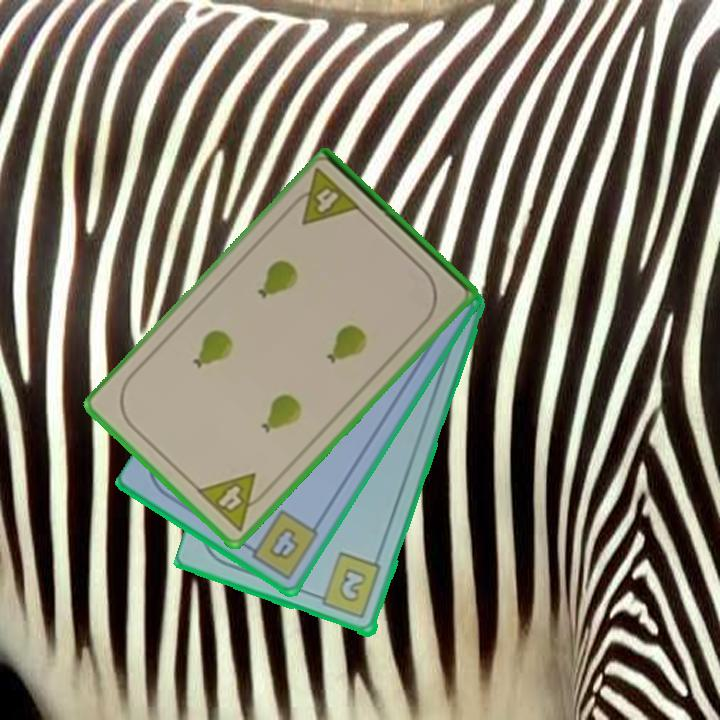2b: (310, 550, 385, 622)
4b: (241, 506, 323, 583)
4p: (193, 469, 274, 534), (284, 165, 365, 228)
